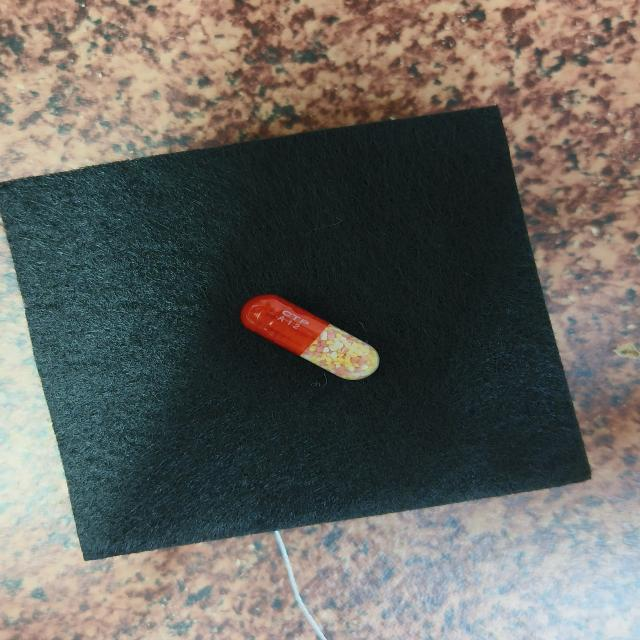Intact Capsule: (240, 294, 380, 380)
